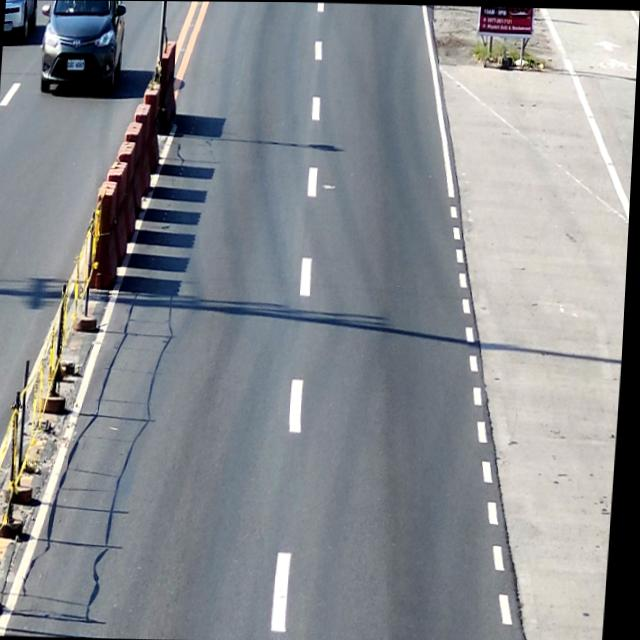Car: (36, 0, 125, 97), (2, 0, 37, 39)
License-Plate: (67, 59, 85, 70), (4, 21, 12, 31)
